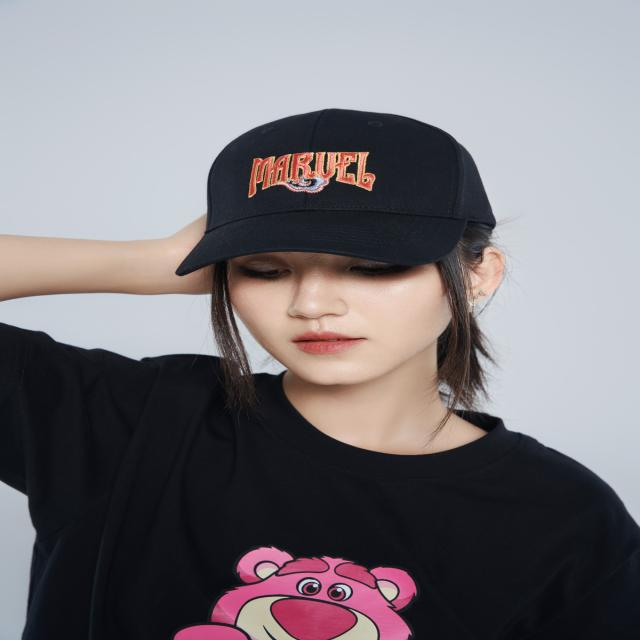no_helmet: (152, 100, 518, 279)
